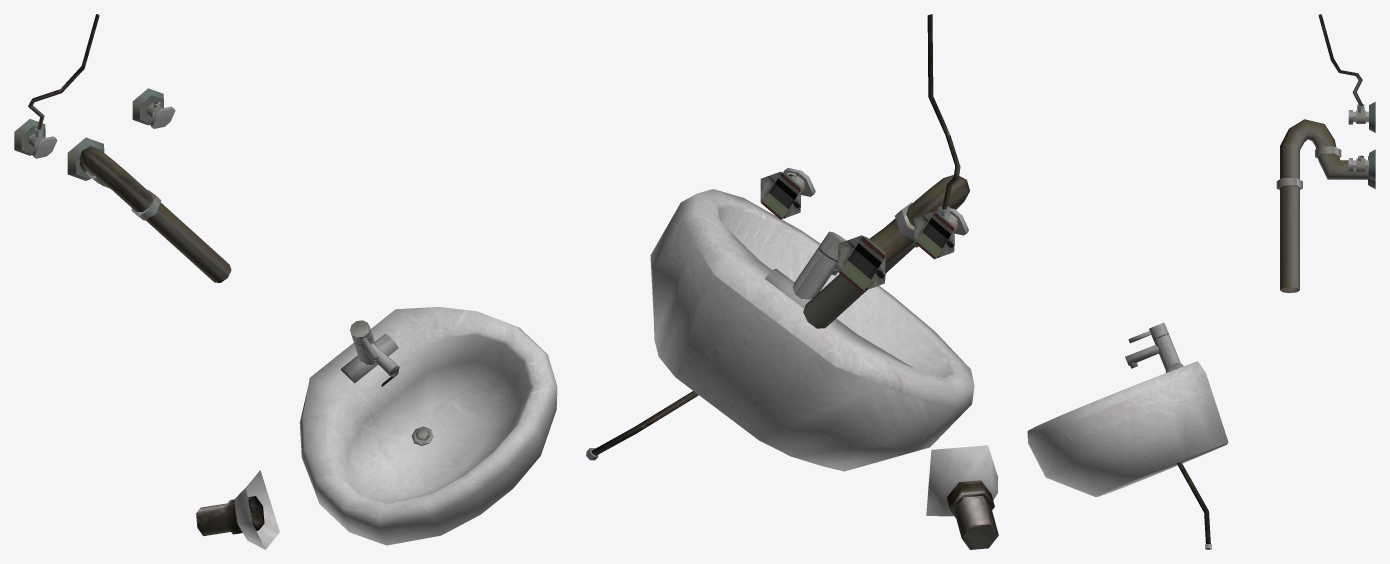
File: bathroom_props_washbasin_broken.fbx
3 views of the same model, side by side, from view 1: azimuth 30°, elevation 25°; view 2: azimuth 150°, elevation 25°; view 3: azimuth 270°, elevation 25° (orthographic). The views are drawn at different scales.
Visible parts, largest first — view 1: Box01; view 2: Box01; view 3: Box01.
Boxes of the visible parts, x1,y1,x2,y2 form: Box01: [14, 14, 557, 549]; Box01: [586, 14, 998, 549]; Box01: [1027, 14, 1375, 549].
Bounding box in the file's own units: 1.36 × 1.62 × 1.26.
